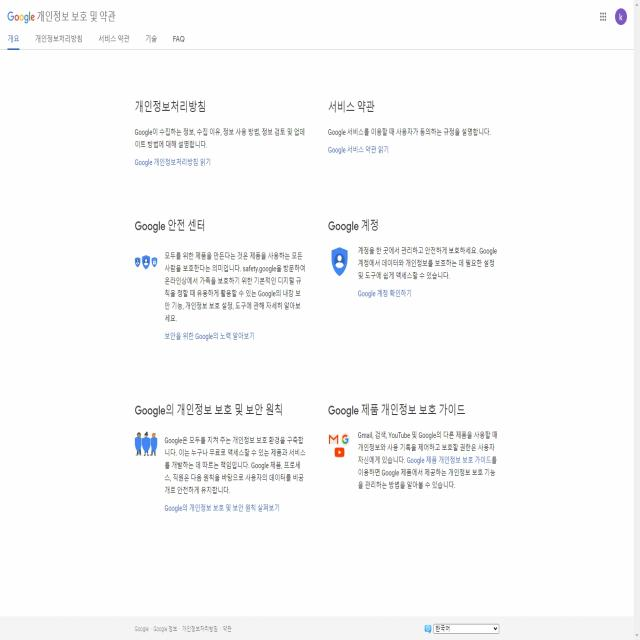menu-bar: (2, 26, 191, 50), (128, 620, 238, 637)
